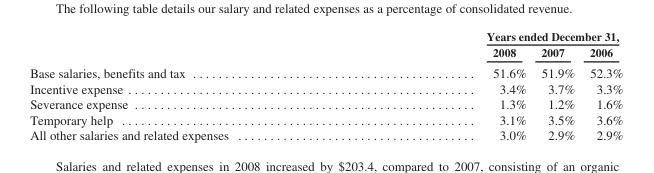table: (29, 28, 622, 141)
table column: (29, 28, 356, 141), (356, 28, 533, 141), (533, 28, 581, 141), (581, 28, 622, 141)
table column header: (29, 28, 622, 62)
table row: (29, 43, 622, 62), (29, 62, 622, 80), (29, 95, 622, 111), (29, 28, 622, 43), (29, 80, 622, 95), (29, 111, 622, 126), (29, 126, 622, 141)
table spanning cell: (356, 28, 622, 43)
